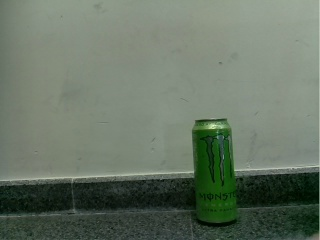botella plastico: (191, 117, 237, 223)
